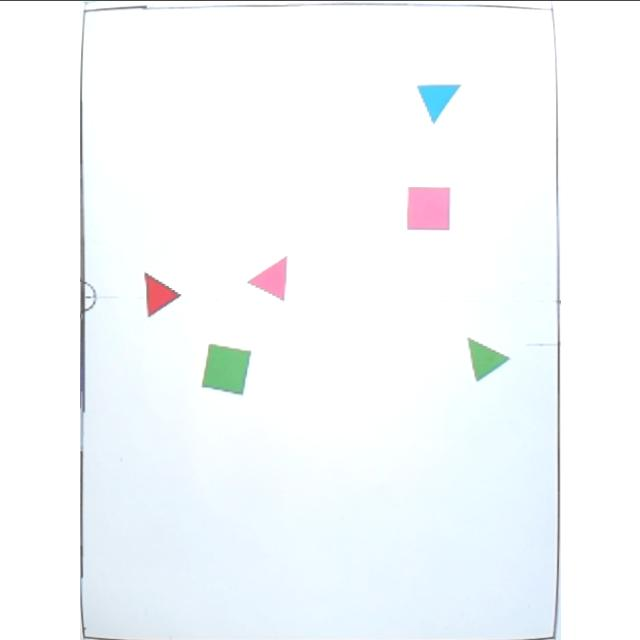blueTriangle: (413, 80, 462, 124)
greenSquare: (198, 342, 252, 394)
greenTriangle: (465, 336, 511, 382)
pinkSquare: (402, 184, 452, 232)
pinkTriangle: (246, 254, 288, 302)
redTriangle: (142, 270, 180, 318)
